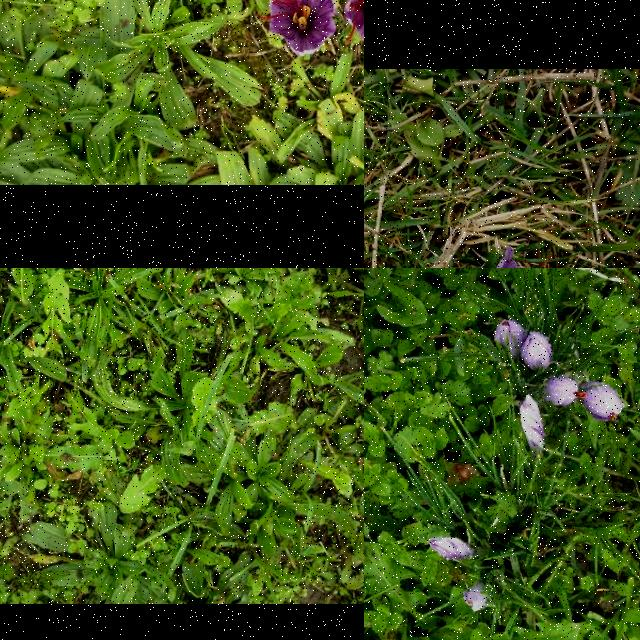flower: (261, 0, 336, 54), (488, 247, 578, 268), (520, 394, 546, 454), (520, 330, 554, 372), (494, 321, 528, 362), (427, 538, 475, 562), (544, 377, 580, 408), (463, 582, 489, 612)
overlap: (493, 320, 552, 372), (578, 381, 624, 421)
